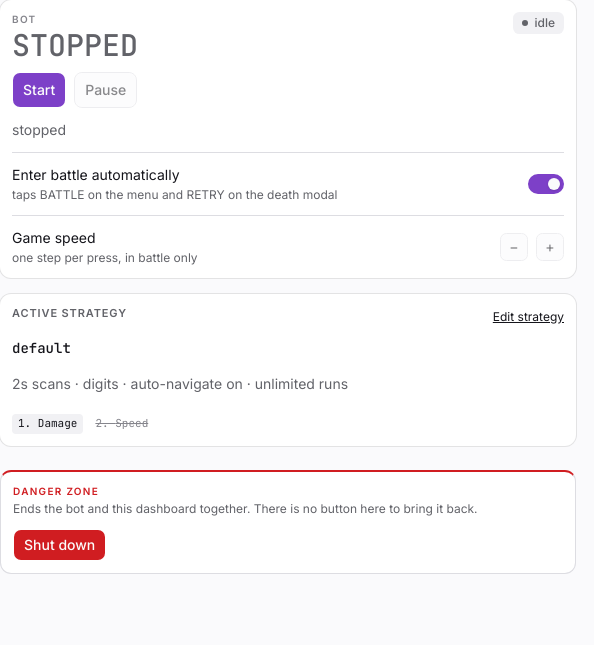
Test case: ControlPage › shows a dead emulator's message instead of failing silently
Click the button "Start": coordinates (39, 90) [12,72,66,108]
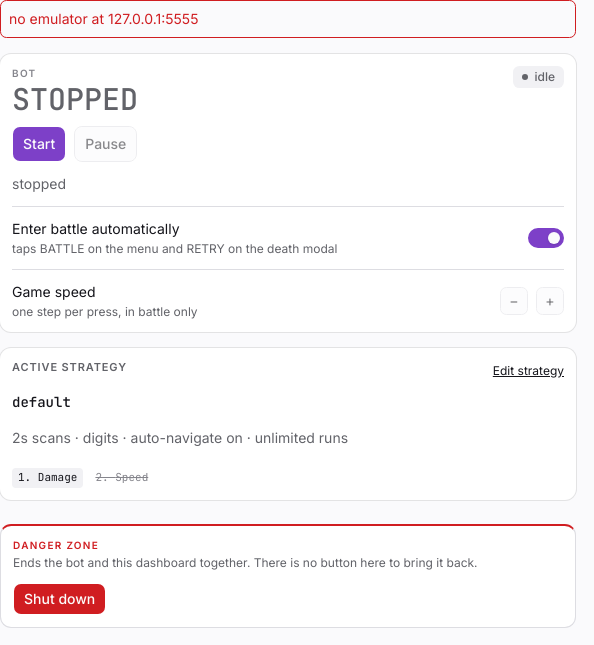
expect the text "no emulator at 127.0.0.1:5555" is shown: met, box [0,0,576,38]
